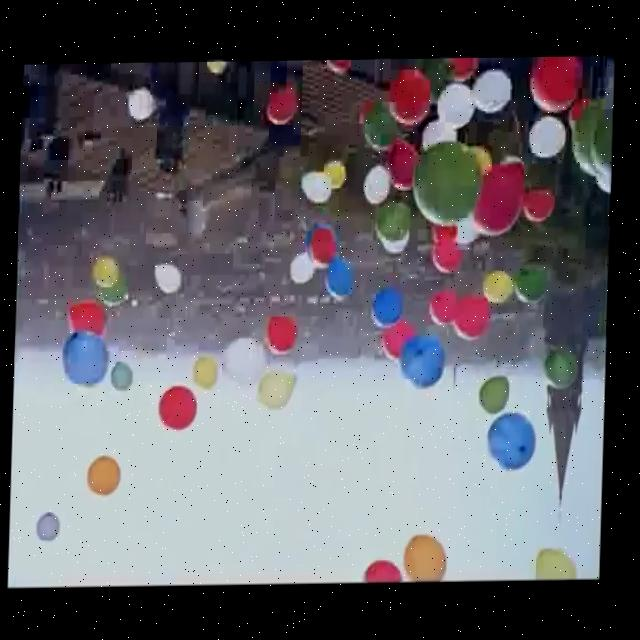balloon: (413, 151, 483, 229), (477, 162, 527, 233), (529, 54, 582, 114), (489, 414, 539, 473), (388, 69, 432, 122), (64, 332, 105, 387), (590, 102, 615, 187), (406, 536, 450, 583), (403, 341, 448, 384), (160, 385, 200, 432), (223, 337, 263, 384), (572, 105, 597, 177), (69, 299, 110, 341), (437, 83, 471, 132), (474, 73, 513, 112), (360, 106, 395, 149), (540, 356, 579, 393), (538, 549, 580, 582), (86, 457, 123, 494), (257, 375, 296, 409), (459, 294, 489, 338), (527, 124, 567, 157), (381, 200, 412, 241), (513, 269, 548, 305), (385, 153, 418, 189), (271, 312, 299, 354), (482, 272, 519, 303), (305, 227, 334, 265), (524, 188, 556, 222), (383, 322, 414, 356), (422, 123, 457, 153), (374, 288, 403, 324), (327, 262, 356, 298), (478, 379, 509, 412), (97, 278, 129, 309), (87, 253, 120, 283), (192, 359, 221, 393), (154, 261, 184, 293), (126, 88, 158, 118), (298, 173, 329, 203), (431, 293, 464, 321), (367, 561, 405, 585), (131, 88, 155, 124), (267, 92, 296, 121), (291, 251, 317, 283), (364, 166, 388, 200), (452, 216, 482, 243), (320, 161, 347, 190), (434, 242, 460, 271), (35, 513, 61, 541), (114, 366, 134, 392), (430, 224, 457, 243), (320, 61, 350, 74), (202, 62, 223, 77)
